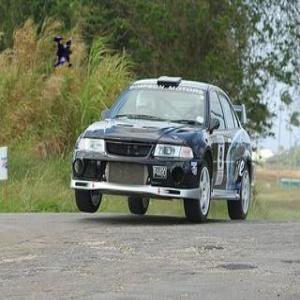drone: (27, 26, 87, 86)
